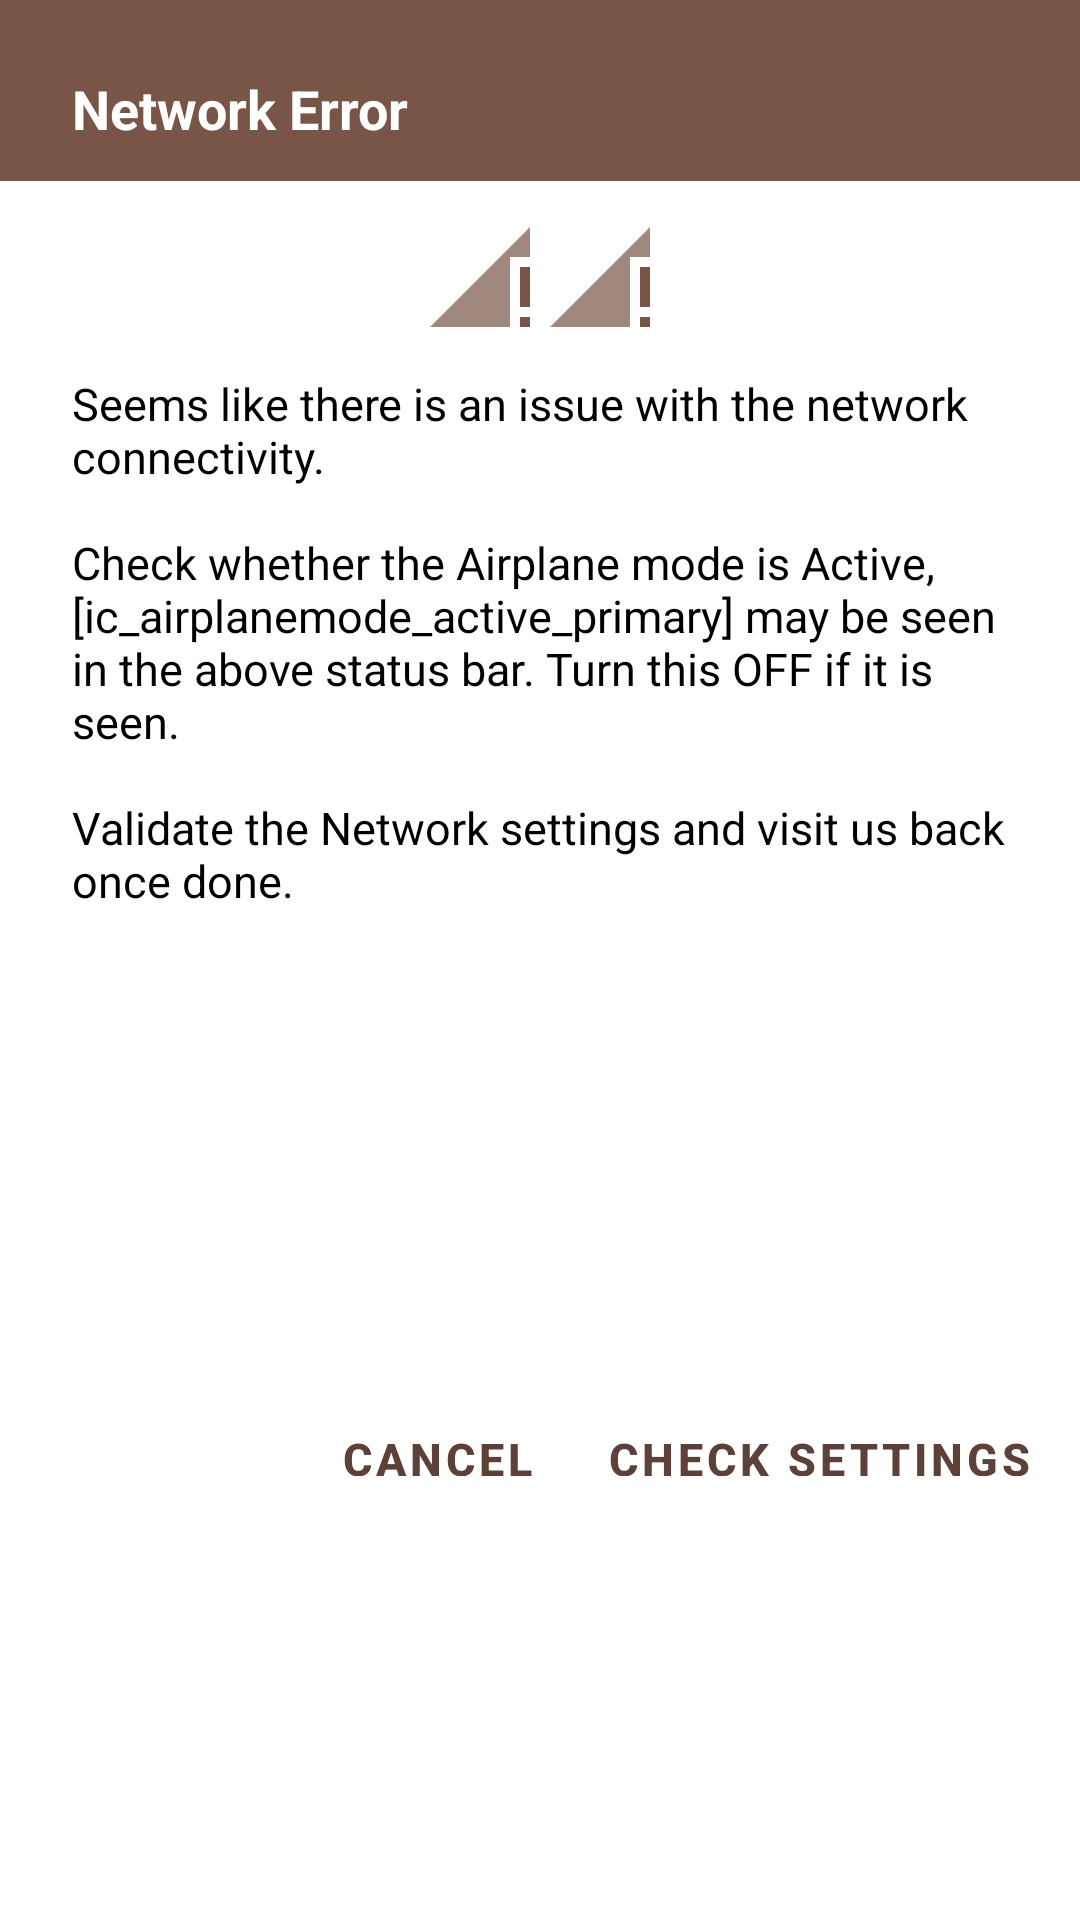

Where to tap for icons on this 1080*1920 app screen, as (x,y):
signal no internet: (480,277), (600,277)
